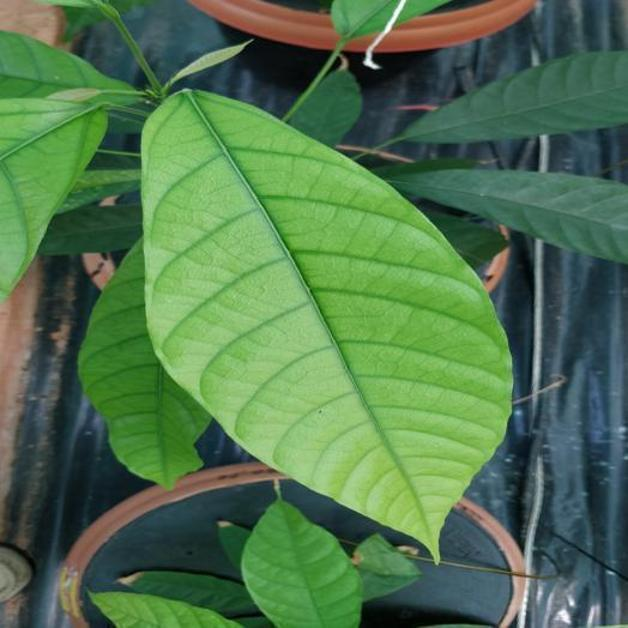Healthy Leaf: (388, 169, 627, 263), (394, 51, 627, 142), (120, 571, 257, 616), (289, 69, 361, 146), (39, 205, 141, 255), (353, 534, 420, 601), (218, 521, 250, 570)
Iron: (142, 91, 509, 559), (79, 240, 210, 488), (0, 98, 107, 299), (242, 493, 361, 627), (0, 31, 130, 98), (90, 592, 241, 627)
